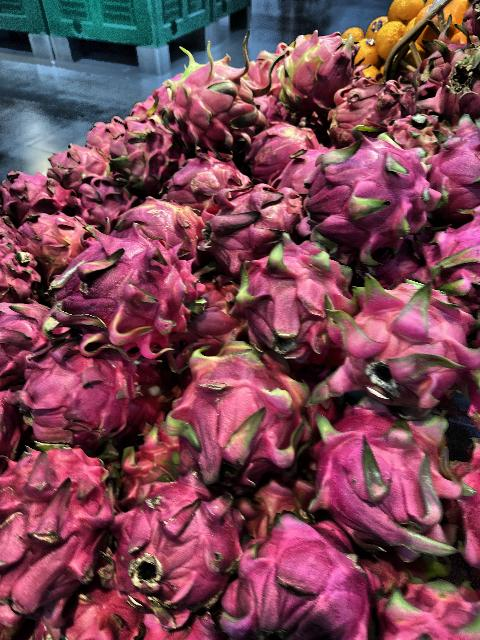buah-naga-belum-matang: (176, 346, 310, 484), (149, 55, 274, 147), (107, 192, 213, 268), (273, 38, 355, 116), (242, 118, 318, 180), (156, 160, 250, 210), (16, 217, 85, 270)
buah-naga-matang: (321, 398, 453, 562), (42, 225, 200, 353), (220, 514, 374, 640), (0, 450, 120, 610), (331, 278, 473, 408), (111, 472, 241, 614), (298, 134, 434, 260), (8, 348, 158, 452), (231, 238, 350, 358), (200, 190, 312, 262), (418, 119, 480, 218), (1, 300, 57, 384), (322, 84, 406, 138), (0, 170, 72, 220), (46, 146, 110, 180)
